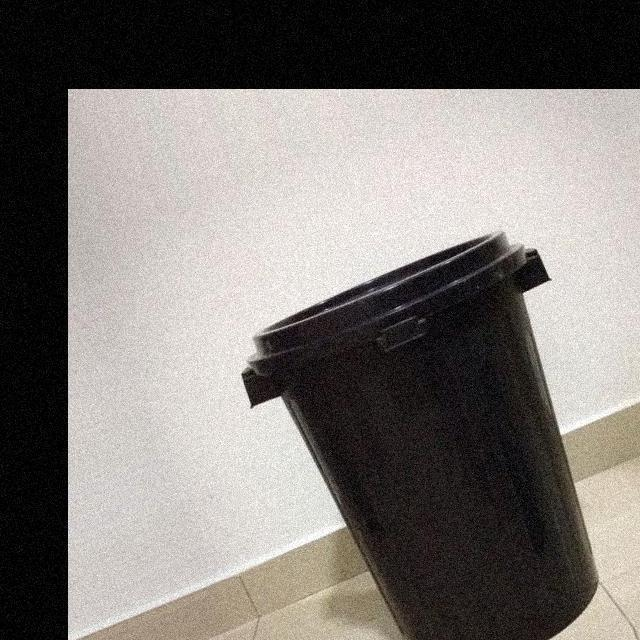Bote de Basura: (258, 244, 608, 640)
